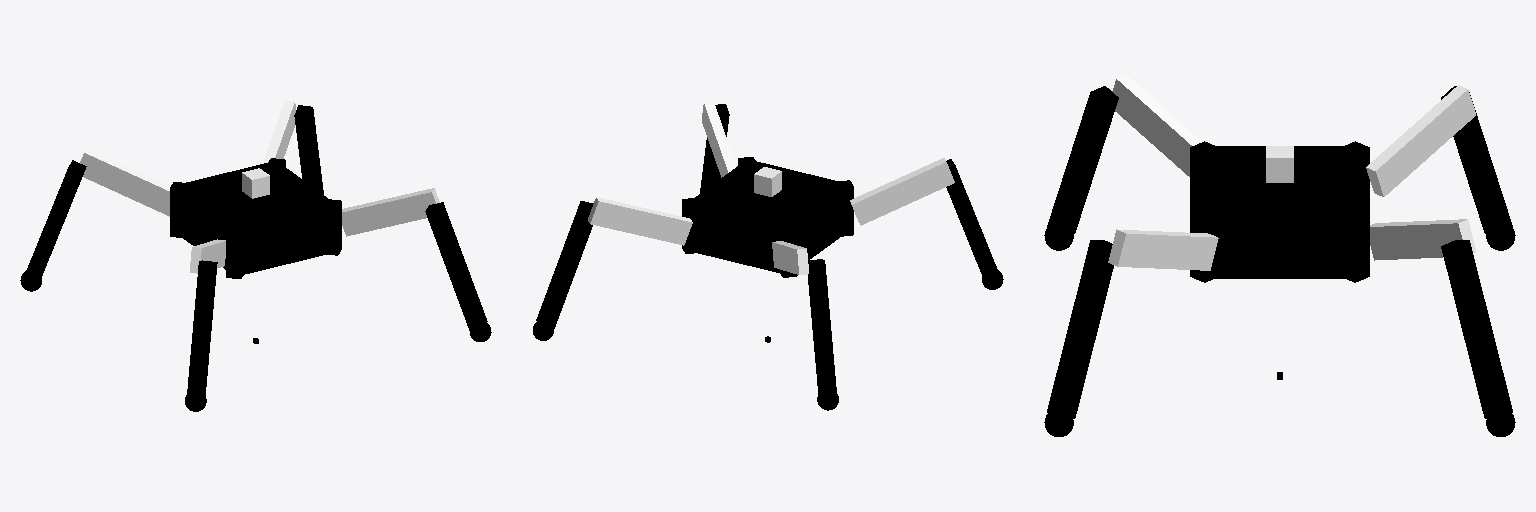
--- Facts derived from the render (not from the file) ---
The picture shows the robot from 3 angles, left to right: view 1: azimuth 30°, elevation 25°; view 2: azimuth 150°, elevation 25°; view 3: azimuth 270°, elevation 25°; orthographic projection.
Robot: quadruped — 19 links, 18 joints (12 revolute, 6 fixed); root link dummy_link; default pose: all joints at 0.
Links seen in each view (by area): view 1: base_link, back_right_leg1, front_left_leg2, back_right_leg2, back_left_leg1, front_left_leg1, front_right_leg1, front_right_leg2, back_left_leg3, back_right_leg3, front_left_leg3, back_left_leg2 (+1 smaller); view 2: base_link, back_left_leg2, front_right_leg2, front_right_leg1, front_left_leg1, back_left_leg1, back_right_leg2, front_left_leg2, back_right_leg1, front_right_leg3, back_left_leg3, imu_link; view 3: base_link, front_right_leg1, back_right_leg1, front_left_leg2, back_left_leg1, back_right_leg2, back_left_leg2, front_left_leg1, front_right_leg2, front_right_leg3, back_right_leg3, imu_link (+4 smaller).
Boxes of the visible links, x1,y1,x2,y2 form: base_link: (179, 161, 332, 274); back_right_leg1: (425, 202, 487, 330); front_left_leg2: (80, 149, 170, 216); back_right_leg2: (342, 188, 439, 236); back_left_leg1: (187, 260, 217, 396); front_left_leg1: (24, 160, 86, 281); front_right_leg1: (294, 105, 323, 194); front_right_leg2: (263, 100, 295, 163); back_left_leg3: (226, 223, 244, 278); back_right_leg3: (323, 199, 341, 255); front_left_leg3: (170, 182, 184, 237); back_left_leg2: (190, 239, 225, 273); base_link: (691, 159, 844, 272); back_left_leg2: (850, 158, 954, 225); front_right_leg2: (588, 197, 692, 245); front_right_leg1: (536, 201, 593, 329); front_left_leg1: (808, 259, 836, 395); back_left_leg1: (946, 159, 999, 280); back_right_leg2: (702, 101, 736, 177); front_left_leg2: (772, 241, 808, 274); back_right_leg1: (700, 104, 729, 193); front_right_leg3: (682, 198, 700, 253); back_left_leg3: (839, 180, 853, 236); imu_link: (754, 167, 781, 196); base_link: (1205, 146, 1354, 278); front_right_leg1: (1441, 240, 1512, 418); back_right_leg1: (1047, 240, 1113, 418); front_left_leg2: (1366, 85, 1475, 196); back_left_leg1: (1047, 86, 1118, 239); back_right_leg2: (1108, 229, 1218, 270); back_left_leg2: (1112, 75, 1201, 176); front_left_leg1: (1441, 86, 1512, 239); front_right_leg2: (1370, 219, 1475, 260); front_right_leg3: (1340, 205, 1369, 282); back_right_leg3: (1190, 205, 1219, 282); imu_link: (1266, 146, 1293, 182).
Size in the robot's own frame: 0.7437 by 0.7437 by 0.3955 metres.
Geometry: primitives only (box / cylinder / sphere), no mesh files.

robot.urdf — quadruped:
<?xml version="1.0" ?>
<!-- =================================================================================== -->
<!-- |    This document was autogenerated by xacro from [local-path]/Desktop/CNS/DDP/src/simulations/ws/src/quadruped/urdf/quadruped_model.xacro | -->
<!-- |    EDITING THIS FILE BY HAND IS NOT RECOMMENDED                                 | -->
<!-- =================================================================================== -->
<robot name="quadruped">
    <!-- Gazebo plugin for ROS Control -->
    <gazebo>
        <plugin filename="libgazebo_ros_control.so" name="gazebo_ros_control">
            <robotNamespace>/quadruped</robotNamespace>
        </plugin>
    </gazebo>
    <material name="black">
        <color rgba="0.0 0.0 0.0 1.0" />
    </material>
    <material name="blue">
        <color rgba="0.0 0.0 0.8 1.0" />
    </material>
    <material name="green">
        <color rgba="0.0 0.8 0.0 1.0" />
    </material>
    <material name="grey">
        <color rgba="0.2 0.2 0.2 1.0" />
    </material>
    <material name="orange">
        <color rgba="1.0 0.4235294117647059 0.0392156862745098 1.0" />
    </material>
    <material name="brown">
        <color rgba="0.8705882352941177 0.8117647058823529 0.7647058823529411 1.0" />
    </material>
    <material name="red">
        <color rgba="0.8 0.0 0.0 1.0" />
    </material>
    <material name="white">
        <color rgba="1.0 1.0 1.0 1.0" />
    </material>
    <!-- Quadruped -->
    <link name="dummy_link">
        <visual>
            <geometry>
                <box size="0.01 0.01 0.01" />
            </geometry>
            <material name="black" />
        </visual>
        
<inertial>
            <mass value="0.01" />
            <inertia ixx="0.00001" ixy="0.0" ixz="0.0" iyy="0.00001" iyz="0.0" izz="0.00001" />
        </inertial>

        <gazebo reference="dummy_link" />
    </link>
    <link name="base_link">
        <visual>
            <geometry>
                <box size="0.2376 0.2376 0.12100000000000001" />
            </geometry>
            <material name="black" />
        </visual>
        <collision>
            <geometry>
                <box size="0.2376 0.2376 0.12100000000000001" />
            </geometry>
        </collision>
        
<inertial>
            <mass value="4.259200000000002" />
            <inertia ixx="0.04007464243200002" ixy="0.0" ixz="0.0" iyy="0.04007464243200002" iyz="0.0" izz="0.04007464243200002" />
        </inertial>

    </link>
    <joint name="dummy_base_joint" type="fixed">
        <parent link="dummy_link" />
        <child link="base_link" />
        <origin rpy="0 0 0" xyz="0 0 0.28600000000000003" />
    </joint>
    <gazebo reference="base_link">
        <mu1>100000.0</mu1>
        <mu2>100000.0</mu2>
        <material>Gazebo/Black</material>
    </gazebo>
    <gazebo reference="dummy_base_joint">
        <provideFeedback>true</provideFeedback>
        <disableFixedJointLumping>true</disableFixedJointLumping>
    </gazebo>
    <link name="imu_link">
        <visual>
            <geometry>
                <box size="0.044000000000000004 0.044000000000000004 0.044000000000000004" />
            </geometry>
            <material name="white" />
        </visual>
        <collision>
            <geometry>
                <box size="0.044000000000000004 0.044000000000000004 0.044000000000000004" />
            </geometry>
        </collision>
        
<inertial>
            <mass value="0.5324000000000002" />
            <inertia ixx="0.00017178773333333344" ixy="0.0" ixz="0.0" iyy="0.00017178773333333344" iyz="0.0" izz="0.00017178773333333344" />
        </inertial>

    </link>
    <joint name="base_imu_joint" type="fixed">
        <parent link="base_link" />
        <child link="imu_link" />
        <origin rpy="0 0 0" xyz="0 0 0.0825" />
        <dynamics damping="10" friction="0.5" />
    </joint>
    <gazebo reference="imu_link">
        <material>Gazebo/White</material>
        <gravity>true</gravity>
        <sensor name="imu_sensor" type="imu">
            <always_on>true</always_on>
            <update_rate>100</update_rate>
            <visualize>true</visualize>
            <topic>__default_topic__</topic>
            <plugin filename="libgazebo_ros_imu_sensor.so" name="imu_plugin">
                <robotNamespace>/quadruped</robotNamespace>
                <topicName>imu</topicName>
                <bodyName>imu_link</bodyName>
                <updateRateHZ>100.0</updateRateHZ>
                <gaussianNoise>0.0</gaussianNoise>
                <xyzOffset>0 0 0</xyzOffset>
                <rpyOffset>0 0 0</rpyOffset>
                <frameName>imu_link</frameName>
            </plugin>
            <pose>0 0 0 0 0 0</pose>
        </sensor>
    </gazebo>
    <gazebo reference="base_imu_joint">
        <provideFeedback>true</provideFeedback>
        <disableFixedJointLumping>true</disableFixedJointLumping>
    </gazebo>
    <link name="front_right_leg3">
        <visual>
            <origin rpy="0 0 0" xyz="0 0 0" />
            <geometry>
                <box size="0.033 0.033 0.1144" />
            </geometry>
            <material name="black" />
        </visual>
        <collision>
            <origin rpy="0 0 0" xyz="0 0 0" />
            <geometry>
                <box size="0.033 0.033 0.1144" />
            </geometry>
        </collision>
        
<inertial>
            <mass value="1.0648000000000004" />
            <inertia ixx="0.0001932612000000001" ixy="0.0" ixz="0.0" iyy="0.0001932612000000001" iyz="0.0" izz="0.0001932612000000001" />
        </inertial>

    </link>
    <joint name="front_right_leg3_joint" type="revolute">
        <axis xyz="0 0 1" />
        <parent link="base_link" />
        <child link="front_right_leg3" />
        <origin rpy="0 0 0.7853981633974483" xyz="0.1188 0.1188 0" />
        <limit effort="100.0" lower="-0.3490658503988659" upper="0.3490658503988659" velocity="10.0" />
        <dynamics damping="10" friction="0.5" />
    </joint>
    <gazebo reference="front_right_leg3">
        <mu1>100000.0</mu1>
        <mu2>100000.0</mu2>
        <material>Gazebo/White</material>
    </gazebo>
    <link name="front_right_leg2">
        <visual>
            <origin rpy="0 2.792526803190927 0" xyz="0.10336618828644993 0.011000000000000001 0.03762221576582357" />
            <geometry>
                <box size="0.22000000000000003 0.022000000000000002 0.05500000000000001" />
            </geometry>
            <material name="white" />
        </visual>
        <collision>
            <origin rpy="0 2.792526803190927 0" xyz="0.10336618828644993 0.011000000000000001 0.03762221576582357" />
            <geometry>
                <box size="0.22000000000000003 0.022000000000000002 0.05500000000000001" />
            </geometry>
        </collision>
        
<inertial>
            <mass value="0.5324000000000002" />
            <inertia ixx="0.0021688201333333345" ixy="0.0" ixz="0.0" iyy="0.0021688201333333345" iyz="0.0" izz="0.0021688201333333345" />
        </inertial>

    </link>
    <joint name="front_right_leg2_joint" type="revolute">
        <axis rpy="0 0 0" xyz="0 1 0" />
        <parent link="front_right_leg3" />
        <child link="front_right_leg2" />
        <origin xyz="0.0165 0.0165 0" />
        <limit effort="100.0" lower="-0.3490658503988659" upper="0.3490658503988659" velocity="10.0" />
        <dynamics damping="10" friction="0.5" />
    </joint>
    <gazebo reference="front_right_leg2">
        <mu1>100000.0</mu1>
        <mu2>100000.0</mu2>
        <material>Gazebo/Black</material>
    </gazebo>
    <link name="front_right_leg1">
        <visual>
            <origin rpy="0 0 0" xyz="0 -0.0165 -0.14300000000000002" />
            <geometry>
                <box size="0.033 0.033 0.28600000000000003" />
            </geometry>
            <material name="black" />
        </visual>
        <collision>
            <origin rpy="0 0 0" xyz="0 -0.0165 -0.14300000000000002" />
            <geometry>
                <box size="0.033 0.033 0.28600000000000003" />
            </geometry>
        </collision>
        
<inertial>
            <mass value="8.518400000000003" />
            <inertia ixx="0.05883729866666671" ixy="0.0" ixz="0.0" iyy="0.05883729866666671" iyz="0.0" izz="0.05883729866666671" />
        </inertial>

    </link>
    <joint name="front_right_leg1_joint" type="revolute">
        <axis xyz="0 1 0" />
        <parent link="front_right_leg2" />
        <child link="front_right_leg1" />
        <origin rpy="0 -0.34906585039886595 0" xyz="0.20673237657289986 0 0.07524443153164714" />
        <limit effort="100.0" lower="-0.3490658503988659" upper="0.3490658503988659" velocity="10.0" />
        <dynamics damping="10" friction="0.5" />
    </joint>
    <gazebo reference="front_right_leg1">
        <mu1>100000.0</mu1>
        <mu2>100000.0</mu2>
        <material>Gazebo/White</material>
    </gazebo>
    <link name="front_right_leg_tip">
        <visual>
            <origin rpy="0 0 0" xyz="0 0 0" />
            <geometry>
                <sphere radius="0.023265" />
            </geometry>
            <material name="black" />
        </visual>
        <collision name="front_right_leg_tip">
            <origin rpy="0 0 0" xyz="0 0 0" />
            <geometry>
                <sphere radius="0.0165" />
            </geometry>
        </collision>
        
<inertial>
            <mass value="0.21296000000000007" />
            <inertia ixx="0.1" ixy="0.0" ixz="0.0" iyy="0.1" iyz="0.0" izz="0.1" />
        </inertial>

    </link>
    <joint name="front_right_leg_tip_joint" type="fixed">
        <parent link="front_right_leg1" />
        <child link="front_right_leg_tip" />
        <origin rpy="0 0 0" xyz="0 -0.0165 -0.2976325" />
        <dynamics damping="10" friction="0.5" />
    </joint>
    <gazebo reference="front_right_leg_tip">
        <minDepth>0.0002</minDepth>
        <collision name="front_right_leg_tip_collision">
            <geometry>
                <sphere>
                    <radius>0.0165</radius>
                </sphere>
            </geometry>
            <surface>
                <friction>
                    <ode>
                        <mu>100000.0</mu>
                        <mu2>100000.0</mu2>
                    </ode>
                    <torsional>
                        <coefficient>1000000</coefficient>
                        <use_patch_radius>true</use_patch_radius>
                        <surface_radius>0.0165</surface_radius>
                        <patch_radius>0.0165</patch_radius>
                    </torsional>
                </friction>
            </surface>
        </collision>
        <sensor name="front_right_leg_tip_contact_sensor" type="contact">
            <plugin filename="libgazebo_ros_bumper.so" name="gazebo_ros_bumper_controller">
                <robotNamespace>/quadruped</robotNamespace>
                <bumperTopicName>front_right_leg_tip_contact_sensor</bumperTopicName>
                <frameName>front_right_leg_tip</frameName>
                <alwayson>true</alwayson>
                <updaterate>100</updaterate>
            </plugin>
            <always_on>true</always_on>
            <update_rate>100</update_rate>
            <contact>
                <collision>front_right_leg_tip_collision</collision>
            </contact>
        </sensor>
        <material>Gazebo/Black</material>
    </gazebo>
    <gazebo reference="front_right_leg_tip_joint">
        <provideFeedback>true</provideFeedback>
        <disableFixedJointLumping>true</disableFixedJointLumping>
    </gazebo>
    <link name="front_left_leg3">
        <visual>
            <origin rpy="0 0 0" xyz="0 0 0" />
            <geometry>
                <box size="0.033 0.033 0.1144" />
            </geometry>
            <material name="black" />
        </visual>
        <collision>
            <origin rpy="0 0 0" xyz="0 0 0" />
            <geometry>
                <box size="0.033 0.033 0.1144" />
            </geometry>
        </collision>
        
<inertial>
            <mass value="1.0648000000000004" />
            <inertia ixx="0.0001932612000000001" ixy="0.0" ixz="0.0" iyy="0.0001932612000000001" iyz="0.0" izz="0.0001932612000000001" />
        </inertial>

    </link>
    <joint name="front_left_leg3_joint" type="revolute">
        <axis xyz="0 0 1" />
        <parent link="base_link" />
        <child link="front_left_leg3" />
        <origin rpy="0 0 2.356194490192345" xyz="-0.1188 0.1188 0" />
        <limit effort="100.0" lower="-0.3490658503988659" upper="0.3490658503988659" velocity="10.0" />
        <dynamics damping="10" friction="0.5" />
    </joint>
    <gazebo reference="front_left_leg3">
        <mu1>100000.0</mu1>
        <mu2>100000.0</mu2>
        <material>Gazebo/White</material>
    </gazebo>
    <link name="front_left_leg2">
        <visual>
            <origin rpy="0 2.792526803190927 0" xyz="0.10336618828644993 -0.011000000000000001 0.03762221576582357" />
            <geometry>
                <box size="0.22000000000000003 0.022000000000000002 0.05500000000000001" />
            </geometry>
            <material name="white" />
        </visual>
        <collision>
            <origin rpy="0 2.792526803190927 0" xyz="0.10336618828644993 -0.011000000000000001 0.03762221576582357" />
            <geometry>
                <box size="0.22000000000000003 0.022000000000000002 0.05500000000000001" />
            </geometry>
        </collision>
        
<inertial>
            <mass value="0.5324000000000002" />
            <inertia ixx="0.0021688201333333345" ixy="0.0" ixz="0.0" iyy="0.0021688201333333345" iyz="0.0" izz="0.0021688201333333345" />
        </inertial>

    </link>
    <joint name="front_left_leg2_joint" type="revolute">
        <axis rpy="0 0 0" xyz="0 1 0" />
        <parent link="front_left_leg3" />
        <child link="front_left_leg2" />
        <origin xyz="0.0165 -0.0165 0" />
        <limit effort="100.0" lower="-0.3490658503988659" upper="0.3490658503988659" velocity="10.0" />
        <dynamics damping="10" friction="0.5" />
    </joint>
    <gazebo reference="front_left_leg2">
        <mu1>100000.0</mu1>
        <mu2>100000.0</mu2>
        <material>Gazebo/Black</material>
    </gazebo>
    <link name="front_left_leg1">
        <visual>
            <origin rpy="0 0 0" xyz="0 0.0165 -0.14300000000000002" />
            <geometry>
                <box size="0.033 0.033 0.28600000000000003" />
            </geometry>
            <material name="black" />
        </visual>
        <collision>
            <origin rpy="0 0 0" xyz="0 0.0165 -0.14300000000000002" />
            <geometry>
                <box size="0.033 0.033 0.28600000000000003" />
            </geometry>
        </collision>
        
<inertial>
            <mass value="8.518400000000003" />
            <inertia ixx="0.05883729866666671" ixy="0.0" ixz="0.0" iyy="0.05883729866666671" iyz="0.0" izz="0.05883729866666671" />
        </inertial>

    </link>
    <joint name="front_left_leg1_joint" type="revolute">
        <axis xyz="0 1 0" />
        <parent link="front_left_leg2" />
        <child link="front_left_leg1" />
        <origin rpy="0 -0.34906585039886595 0" xyz="0.20673237657289986 0 0.07524443153164714" />
        <limit effort="100.0" lower="-0.3490658503988659" upper="0.3490658503988659" velocity="10.0" />
        <dynamics damping="10" friction="0.5" />
    </joint>
    <gazebo reference="front_left_leg1">
        <mu1>100000.0</mu1>
        <mu2>100000.0</mu2>
        <material>Gazebo/White</material>
    </gazebo>
    <link name="front_left_leg_tip">
        <visual>
            <origin rpy="0 0 0" xyz="0 0 0" />
            <geometry>
                <sphere radius="0.023265" />
            </geometry>
            <material name="black" />
        </visual>
        <collision name="front_left_leg_tip">
            <origin rpy="0 0 0" xyz="0 0 0" />
            <geometry>
                <sphere radius="0.0165" />
            </geometry>
        </collision>
        
<inertial>
            <mass value="0.21296000000000007" />
            <inertia ixx="0.1" ixy="0.0" ixz="0.0" iyy="0.1" iyz="0.0" izz="0.1" />
        </inertial>

    </link>
    <joint name="front_left_leg_tip_joint" type="fixed">
        <parent link="front_left_leg1" />
        <child link="front_left_leg_tip" />
        <origin rpy="0 0 0" xyz="0 0.0165 -0.2976325" />
        <dynamics damping="10" friction="0.5" />
    </joint>
    <gazebo reference="front_left_leg_tip">
        <minDepth>0.0002</minDepth>
        <collision name="front_left_leg_tip_collision">
            <geometry>
                <sphere>
                    <radius>0.0165</radius>
                </sphere>
            </geometry>
            <surface>
                <friction>
                    <ode>
                        <mu>100000.0</mu>
                        <mu2>100000.0</mu2>
                    </ode>
                    <torsional>
                        <coefficient>1000000</coefficient>
                        <use_patch_radius>true</use_patch_radius>
                        <surface_radius>0.0165</surface_radius>
                        <patch_radius>0.0165</patch_radius>
                    </torsional>
                </friction>
            </surface>
        </collision>
        <sensor name="front_left_leg_tip_contact_sensor" type="contact">
            <plugin filename="libgazebo_ros_bumper.so" name="gazebo_ros_bumper_controller">
                <robotNamespace>/quadruped</robotNamespace>
                <bumperTopicName>front_left_leg_tip_contact_sensor</bumperTopicName>
                <frameName>front_left_leg_tip</frameName>
                <alwayson>true</alwayson>
                <updaterate>100</updaterate>
            </plugin>
            <always_on>true</always_on>
            <update_rate>100</update_rate>
            <contact>
                <collision>front_left_leg_tip_collision</collision>
            </contact>
        </sensor>
        <material>Gazebo/Black</material>
    </gazebo>
    <gazebo reference="front_left_leg_tip_joint">
        <provideFeedback>true</provideFeedback>
        <disableFixedJointLumping>true</disableFixedJointLumping>
    </gazebo>
    <link name="back_right_leg3">
        <visual>
            <origin rpy="0 0 0" xyz="0 0 0" />
            <geometry>
                <box size="0.033 0.033 0.1144" />
            </geometry>
            <material name="black" />
        </visual>
        <collision>
            <origin rpy="0 0 0" xyz="0 0 0" />
            <geometry>
                <box size="0.033 0.033 0.1144" />
            </geometry>
        </collision>
        
<inertial>
            <mass value="1.0648000000000004" />
            <inertia ixx="0.0001932612000000001" ixy="0.0" ixz="0.0" iyy="0.0001932612000000001" iyz="0.0" izz="0.0001932612000000001" />
        </inertial>

    </link>
    <joint name="back_right_leg3_joint" type="revolute">
        <axis xyz="0 0 1" />
        <parent link="base_link" />
        <child link="back_right_leg3" />
        <origin rpy="0 0 -0.7853981633974483" xyz="0.1188 -0.1188 0" />
        <limit effort="100.0" lower="-0.3490658503988659" upper="0.3490658503988659" velocity="10.0" />
        <dynamics damping="10" friction="0.5" />
    </joint>
    <gazebo reference="back_right_leg3">
        <mu1>100000.0</mu1>
        <mu2>100000.0</mu2>
        <material>Gazebo/White</material>
    </gazebo>
    <link name="back_right_leg2">
        <visual>
            <origin rpy="0 2.792526803190927 0" xyz="0.10336618828644993 0.011000000000000001 0.03762221576582357" />
            <geometry>
                <box size="0.22000000000000003 0.022000000000000002 0.05500000000000001" />
            </geometry>
            <material name="white" />
        </visual>
        <collision>
            <origin rpy="0 2.792526803190927 0" xyz="0.10336618828644993 0.011000000000000001 0.03762221576582357" />
            <geometry>
                <box size="0.22000000000000003 0.022000000000000002 0.05500000000000001" />
            </geometry>
        </collision>
        
<inertial>
            <mass value="0.5324000000000002" />
            <inertia ixx="0.0021688201333333345" ixy="0.0" ixz="0.0" iyy="0.0021688201333333345" iyz="0.0" izz="0.0021688201333333345" />
        </inertial>

    </link>
    <joint name="back_right_leg2_joint" type="revolute">
        <axis rpy="0 0 0" xyz="0 1 0" />
        <parent link="back_right_leg3" />
        <child link="back_right_leg2" />
        <origin xyz="0.0165 0.0165 0" />
        <limit effort="100.0" lower="-0.3490658503988659" upper="0.3490658503988659" velocity="10.0" />
        <dynamics damping="10" friction="0.5" />
    </joint>
    <gazebo reference="back_right_leg2">
        <mu1>100000.0</mu1>
        <mu2>100000.0</mu2>
        <material>Gazebo/Black</material>
    </gazebo>
    <link name="back_right_leg1">
        <visual>
            <origin rpy="0 0 0" xyz="0 -0.0165 -0.14300000000000002" />
            <geometry>
                <box size="0.033 0.033 0.28600000000000003" />
            </geometry>
            <material name="black" />
        </visual>
        <collision>
            <origin rpy="0 0 0" xyz="0 -0.0165 -0.14300000000000002" />
            <geometry>
                <box size="0.033 0.033 0.28600000000000003" />
            </geometry>
        </collision>
        
<inertial>
            <mass value="8.518400000000003" />
            <inertia ixx="0.05883729866666671" ixy="0.0" ixz="0.0" iyy="0.05883729866666671" iyz="0.0" izz="0.05883729866666671" />
        </inertial>

    </link>
    <joint name="back_right_leg1_joint" type="revolute">
        <axis xyz="0 1 0" />
        <parent link="back_right_leg2" />
        <child link="back_right_leg1" />
        <origin rpy="0 -0.34906585039886595 0" xyz="0.20673237657289986 0 0.07524443153164714" />
        <limit effort="100.0" lower="-0.3490658503988659" upper="0.3490658503988659" velocity="10.0" />
        <dynamics damping="10" friction="0.5" />
    </joint>
    <gazebo reference="back_right_leg1">
        <mu1>100000.0</mu1>
        <mu2>100000.0</mu2>
        <material>Gazebo/White</material>
    </gazebo>
    <link name="back_right_leg_tip">
        <visual>
            <origin rpy="0 0 0" xyz="0 0 0" />
            <geometry>
                <sphere radius="0.023265" />
            </geometry>
            <material name="black" />
        </visual>
        <collision name="back_right_leg_tip">
            <origin rpy="0 0 0" xyz="0 0 0" />
            <geometry>
                <sphere radius="0.0165" />
            </geometry>
        </collision>
        
<inertial>
            <mass value="0.21296000000000007" />
            <inertia ixx="0.1" ixy="0.0" ixz="0.0" iyy="0.1" iyz="0.0" izz="0.1" />
        </inertial>

    </link>
    <joint name="back_right_leg_tip_joint" type="fixed">
        <parent link="back_right_leg1" />
        <child link="back_right_leg_tip" />
        <origin rpy="0 0 0" xyz="0 -0.0165 -0.2976325" />
        <dynamics damping="10" friction="0.5" />
    </joint>
    <gazebo reference="back_right_leg_tip">
        <minDepth>0.0002</minDepth>
        <collision name="back_right_leg_tip_collision">
            <geometry>
                <sphere>
                    <radius>0.0165</radius>
                </sphere>
            </geometry>
            <surface>
                <friction>
                    <ode>
                        <mu>100000.0</mu>
                        <mu2>100000.0</mu2>
                    </ode>
                    <torsional>
                        <coefficient>1000000</coefficient>
                        <use_patch_radius>true</use_patch_radius>
                        <surface_radius>0.0165</surface_radius>
                        <patch_radius>0.0165</patch_radius>
                    </torsional>
                </friction>
            </surface>
        </collision>
        <sensor name="back_right_leg_tip_contact_sensor" type="contact">
            <plugin filename="libgazebo_ros_bumper.so" name="gazebo_ros_bumper_controller">
                <robotNamespace>/quadruped</robotNamespace>
                <bumperTopicName>back_right_leg_tip_contact_sensor</bumperTopicName>
                <frameName>back_right_leg_tip</frameName>
                <alwayson>true</alwayson>
                <updaterate>100</updaterate>
            </plugin>
            <always_on>true</always_on>
            <update_rate>100</update_rate>
            <contact>
                <collision>back_right_leg_tip_collision</collision>
            </contact>
        </sensor>
        <material>Gazebo/Black</material>
    </gazebo>
    <gazebo reference="back_right_leg_tip_joint">
        <provideFeedback>true</provideFeedback>
        <disableFixedJointLumping>true</disableFixedJointLumping>
    </gazebo>
    <link name="back_left_leg3">
        <visual>
            <origin rpy="0 0 0" xyz="0 0 0" />
            <geometry>
                <box size="0.033 0.033 0.1144" />
            </geometry>
            <material name="black" />
        </visual>
        <collision>
            <origin rpy="0 0 0" xyz="0 0 0" />
            <geometry>
                <box size="0.033 0.033 0.1144" />
            </geometry>
        </collision>
        
<inertial>
            <mass value="1.0648000000000004" />
            <inertia ixx="0.0001932612000000001" ixy="0.0" ixz="0.0" iyy="0.0001932612000000001" iyz="0.0" izz="0.0001932612000000001" />
        </inertial>

    </link>
    <joint name="back_left_leg3_joint" type="revolute">
        <axis xyz="0 0 1" />
        <parent link="base_link" />
        <child link="back_left_leg3" />
        <origin rpy="0 0 -2.356194490192345" xyz="-0.1188 -0.1188 0" />
        <limit effort="100.0" lower="-0.3490658503988659" upper="0.3490658503988659" velocity="10.0" />
        <dynamics damping="10" friction="0.5" />
    </joint>
    <gazebo reference="back_left_leg3">
        <mu1>100000.0</mu1>
        <mu2>100000.0</mu2>
        <material>Gazebo/White</material>
    </gazebo>
    <link name="back_left_leg2">
        <visual>
            <origin rpy="0 2.792526803190927 0" xyz="0.10336618828644993 -0.011000000000000001 0.03762221576582357" />
            <geometry>
                <box size="0.22000000000000003 0.022000000000000002 0.05500000000000001" />
            </geometry>
            <material name="white" />
        </visual>
        <collision>
            <origin rpy="0 2.792526803190927 0" xyz="0.10336618828644993 -0.011000000000000001 0.03762221576582357" />
            <geometry>
                <box size="0.22000000000000003 0.022000000000000002 0.05500000000000001" />
            </geometry>
        </collision>
        
<inertial>
            <mass value="0.5324000000000002" />
            <inertia ixx="0.0021688201333333345" ixy="0.0" ixz="0.0" iyy="0.0021688201333333345" iyz="0.0" izz="0.0021688201333333345" />
        </inertial>

    </link>
    <joint name="back_left_leg2_joint" type="revolute">
        <axis rpy="0 0 0" xyz="0 1 0" />
        <parent link="back_left_leg3" />
        <child link="back_left_leg2" />
        <origin xyz="0.0165 -0.0165 0" />
        <limit effort="100.0" lower="-0.3490658503988659" upper="0.3490658503988659" velocity="10.0" />
        <dynamics damping="10" friction="0.5" />
    </joint>
    <gazebo reference="back_left_leg2">
        <mu1>100000.0</mu1>
        <mu2>100000.0</mu2>
        <material>Gazebo/Black</material>
    </gazebo>
    <link name="back_left_leg1">
        <visual>
            <origin rpy="0 0 0" xyz="0 0.0165 -0.14300000000000002" />
            <geometry>
                <box size="0.033 0.033 0.28600000000000003" />
            </geometry>
            <material name="black" />
        </visual>
        <collision>
            <origin rpy="0 0 0" xyz="0 0.0165 -0.14300000000000002" />
            <geometry>
                <box size="0.033 0.033 0.28600000000000003" />
            </geometry>
        </collision>
        
<inertial>
            <mass value="8.518400000000003" />
            <inertia ixx="0.05883729866666671" ixy="0.0" ixz="0.0" iyy="0.05883729866666671" iyz="0.0" izz="0.05883729866666671" />
        </inertial>

    </link>
    <joint name="back_left_leg1_joint" type="revolute">
        <axis xyz="0 1 0" />
        <parent link="back_left_leg2" />
        <child link="back_left_leg1" />
        <origin rpy="0 -0.34906585039886595 0" xyz="0.20673237657289986 0 0.07524443153164714" />
        <limit effort="100.0" lower="-0.3490658503988659" upper="0.3490658503988659" velocity="10.0" />
        <dynamics damping="10" friction="0.5" />
    </joint>
    <gazebo reference="back_left_leg1">
        <mu1>100000.0</mu1>
        <mu2>100000.0</mu2>
        <material>Gazebo/White</material>
    </gazebo>
    <link name="back_left_leg_tip">
        <visual>
            <origin rpy="0 0 0" xyz="0 0 0" />
            <geometry>
                <sphere radius="0.023265" />
            </geometry>
            <material name="black" />
        </visual>
        <collision name="back_left_leg_tip">
            <origin rpy="0 0 0" xyz="0 0 0" />
            <geometry>
                <sphere radius="0.0165" />
            </geometry>
        </collision>
        
<inertial>
            <mass value="0.21296000000000007" />
            <inertia ixx="0.1" ixy="0.0" ixz="0.0" iyy="0.1" iyz="0.0" izz="0.1" />
        </inertial>

    </link>
    <joint name="back_left_leg_tip_joint" type="fixed">
        <parent link="back_left_leg1" />
        <child link="back_left_leg_tip" />
        <origin rpy="0 0 0" xyz="0 0.0165 -0.2976325" />
        <dynamics damping="10" friction="0.5" />
    </joint>
    <gazebo reference="back_left_leg_tip">
        <minDepth>0.0002</minDepth>
        <collision name="back_left_leg_tip_collision">
            <geometry>
                <sphere>
                    <radius>0.0165</radius>
                </sphere>
            </geometry>
            <surface>
                <friction>
                    <ode>
                        <mu>100000.0</mu>
                        <mu2>100000.0</mu2>
                    </ode>
                    <torsional>
                        <coefficient>1000000</coefficient>
                        <use_patch_radius>true</use_patch_radius>
                        <surface_radius>0.0165</surface_radius>
                        <patch_radius>0.0165</patch_radius>
                    </torsional>
                </friction>
            </surface>
        </collision>
        <sensor name="back_left_leg_tip_contact_sensor" type="contact">
            <plugin filename="libgazebo_ros_bumper.so" name="gazebo_ros_bumper_controller">
                <robotNamespace>/quadruped</robotNamespace>
                <bumperTopicName>back_left_leg_tip_contact_sensor</bumperTopicName>
                <frameName>back_left_leg_tip</frameName>
                <alwayson>true</alwayson>
                <updaterate>100</updaterate>
            </plugin>
            <always_on>true</always_on>
            <update_rate>100</update_rate>
            <contact>
                <collision>back_left_leg_tip_collision</collision>
            </contact>
        </sensor>
        <material>Gazebo/Black</material>
    </gazebo>
    <gazebo reference="back_left_leg_tip_joint">
        <provideFeedback>true</provideFeedback>
        <disableFixedJointLumping>true</disableFixedJointLumping>
    </gazebo>
    <!-- gazebo ros joint state pub plugin -->
    <gazebo>
        <plugin filename="libgazebo_ros_joint_state_publisher.so" name="joint_state_publisher">
            <robotNamespace>/quadruped</robotNamespace>
            <jointName>front_right_leg1_joint, front_right_leg2_joint, front_right_leg3_joint, front_left_leg1_joint, front_left_leg2_joint, front_left_leg3_joint, back_right_leg1_joint, back_right_leg2_joint, back_right_leg3_joint, back_left_leg1_joint, back_left_leg2_joint, back_left_leg3_joint</jointName>
            <updateRate>60.0</updateRate>
            <alwaysOn>true</alwaysOn>
        </plugin>
    </gazebo>
    
<transmission name="tran1">
        <joint name="front_right_leg1_joint">
            <hardwareInterface>hardware_interface/PositionJointInterface</hardwareInterface>
        </joint>
        <type>transmission_interface/SimpleTransmission</type>
        <actuator name="servo1">
            <hardwareInterface>hardware_interface/PositionJointInterface</hardwareInterface>
            <mechanicalReduction>1</mechanicalReduction>
        </actuator>
    </transmission>
    <transmission name="tran2">
        <joint name="front_right_leg2_joint">
            <hardwareInterface>hardware_interface/PositionJointInterface</hardwareInterface>
        </joint>
        <type>transmission_interface/SimpleTransmission</type>
        <actuator name="servo2">
            <hardwareInterface>hardware_interface/PositionJointInterface</hardwareInterface>
            <mechanicalReduction>1</mechanicalReduction>
        </actuator>
    </transmission>
    <transmission name="tran3">
        <joint name="front_right_leg3_joint">
            <hardwareInterface>hardware_interface/PositionJointInterface</hardwareInterface>
        </joint>
        <type>transmission_interface/SimpleTransmission</type>
        <actuator name="servo3">
            <hardwareInterface>hardware_interface/PositionJointInterface</hardwareInterface>
            <mechanicalReduction>1</mechanicalReduction>
        </actuator>
    </transmission>
    <transmission name="tran4">
        <joint name="front_left_leg1_joint">
            <hardwareInterface>hardware_interface/PositionJointInterface</hardwareInterface>
        </joint>
        <type>transmission_interface/SimpleTransmission</type>
        <actuator name="servo4">
            <hardwareInterface>hardware_interface/PositionJointInterface</hardwareInterface>
            <mechanicalReduction>1</mechanicalReduction>
        </actuator>
    </transmission>
    <transmission name="tran5">
        <joint name="front_left_leg2_joint">
            <hardwareInterface>hardware_interface/PositionJointInterface</hardwareInterface>
        </joint>
        <type>transmission_interface/SimpleTransmission</type>
        <actuator name="servo5">
            <hardwareInterface>hardware_interface/PositionJointInterface</hardwareInterface>
            <mechanicalReduction>1</mechanicalReduction>
        </actuator>
    </transmission>
    <transmission name="tran6">
        <joint name="front_left_leg3_joint">
            <hardwareInterface>hardware_interface/PositionJointInterface</hardwareInterface>
        </joint>
        <type>transmission_interface/SimpleTransmission</type>
        <actuator name="servo6">
            <hardwareInterface>hardware_interface/PositionJointInterface</hardwareInterface>
            <mechanicalReduction>1</mechanicalReduction>
        </actuator>
    </transmission>
    <transmission name="tran7">
        <joint name="back_right_leg1_joint">
            <hardwareInterface>hardware_interface/PositionJointInterface</hardwareInterface>
        </joint>
        <type>transmission_interface/SimpleTransmission</type>
        <actuator name="servo7">
            <hardwareInterface>hardware_interface/PositionJointInterface</hardwareInterface>
            <mechanicalReduction>1</mechanicalReduction>
        </actuator>
    </transmission>
    <transmission name="tran8">
        <joint name="back_right_leg2_joint">
            <hardwareInterface>hardware_interface/PositionJointInterface</hardwareInterface>
        </joint>
        <type>transmission_interface/SimpleTransmission</type>
        <actuator name="servo8">
            <hardwareInterface>hardware_interface/PositionJointInterface</hardwareInterface>
            <mechanicalReduction>1</mechanicalReduction>
        </actuator>
    </transmission>
    <transmission name="tran9">
        <joint name="back_right_leg3_joint">
            <hardwareInterface>hardware_interface/PositionJointInterface</hardwareInterface>
        </joint>
        <type>transmission_interface/SimpleTransmission</type>
        <actuator name="servo9">
            <hardwareInterface>hardware_interface/PositionJointInterface</hardwareInterface>
            <mechanicalReduction>1</mechanicalReduction>
        </actuator>
    </transmission>
    <transmission name="tran10">
        <joint name="back_left_leg1_joint">
            <hardwareInterface>hardware_interface/PositionJointInterface</hardwareInterface>
        </joint>
        <type>transmission_interface/SimpleTransmission</type>
        <actuator name="servo10">
            <hardwareInterface>hardware_interface/PositionJointInterface</hardwareInterface>
            <mechanicalReduction>1</mechanicalReduction>
        </actuator>
    </transmission>
    <transmission name="tran11">
        <joint name="back_left_leg2_joint">
            <hardwareInterface>hardware_interface/PositionJointInterface</hardwareInterface>
        </joint>
        <type>transmission_interface/SimpleTransmission</type>
        <actuator name="servo11">
            <hardwareInterface>hardware_interface/PositionJointInterface</hardwareInterface>
            <mechanicalReduction>1</mechanicalReduction>
        </actuator>
    </transmission>
    <transmission name="tran12">
        <joint name="back_left_leg3_joint">
            <hardwareInterface>hardware_interface/PositionJointInterface</hardwareInterface>
        </joint>
        <type>transmission_interface/SimpleTransmission</type>
        <actuator name="servo12">
            <hardwareInterface>hardware_interface/PositionJointInterface</hardwareInterface>
            <mechanicalReduction>1</mechanicalReduction>
        </actuator>
    </transmission>
    <transmission name="trans_front_right_leg3_joint">
        <type>transmission_interface/SimpleTransmission</type>
        <joint name="front_right_leg3_joint">
            <hardwareInterface>hardware_interface/EffortJointInterface</hardwareInterface>
        </joint>
        <actuator name="front_right_leg3_joint_motor">
            <hardwareInterface>hardware_interface/EffortJointInterface</hardwareInterface>
            <mechanicalReduction>1</mechanicalReduction>
        </actuator>
    </transmission>
    <transmission name="trans_front_right_leg2_joint">
        <type>transmission_interface/SimpleTransmission</type>
        <joint name="front_right_leg2_joint">
            <hardwareInterface>hardware_interface/EffortJointInterface</hardwareInterface>
        </joint>
        <actuator name="front_right_leg2_joint_motor">
            <hardwareInterface>hardware_interface/EffortJointInterface</hardwareInterface>
            <mechanicalReduction>1</mechanicalReduction>
        </actuator>
    </transmission>
    <transmission name="trans_front_right_leg1_joint">
        <type>transmission_interface/SimpleTransmission</type>
        <joint name="front_right_leg1_joint">
            <hardwareInterface>hardware_interface/EffortJointInterface</hardwareInterface>
        </joint>
        <actuator name="front_right_leg1_joint_motor">
            <hardwareInterface>hardware_interface/EffortJointInterface</hardwareInterface>
            <mechanicalReduction>1</mechanicalReduction>
        </actuator>
    </transmission>
    <transmission name="trans_front_left_leg3_joint">
        <type>transmission_interface/SimpleTransmission</type>
        <joint name="front_left_leg3_joint">
            <hardwareInterface>hardware_interface/EffortJointInterface</hardwareInterface>
        </joint>
        <actuator name="front_left_leg3_joint_motor">
            <hardwareInterface>hardware_interface/EffortJointInterface</hardwareInterface>
            <mechanicalReduction>1</mechanicalReduction>
        </actuator>
    </transmission>
    <transmission name="trans_front_left_leg2_joint">
        <type>transmission_interface/SimpleTransmission</type>
        <joint name="front_left_leg2_joint">
            <hardwareInterface>hardware_interface/EffortJointInterface</hardwareInterface>
        </joint>
        <actuator name="front_left_leg2_joint_motor">
            <hardwareInterface>hardware_interface/EffortJointInterface</hardwareInterface>
            <mechanicalReduction>1</mechanicalReduction>
        </actuator>
    </transmission>
    <transmission name="trans_front_left_leg1_joint">
        <type>transmission_interface/SimpleTransmission</type>
        <joint name="front_left_leg1_joint">
            <hardwareInterface>hardware_interface/EffortJointInterface</hardwareInterface>
        </joint>
        <actuator name="front_left_leg1_joint_motor">
            <hardwareInterface>hardware_interface/EffortJointInterface</hardwareInterface>
            <mechanicalReduction>1</mechanicalReduction>
        </actuator>
    </transmission>
    <transmission name="trans_back_right_leg3_joint">
        <type>transmission_interface/SimpleTransmission</type>
        <joint name="back_right_leg3_joint">
            <hardwareInterface>hardware_interface/EffortJointInterface</hardwareInterface>
        </joint>
        <actuator name="back_right_leg3_joint_motor">
            <hardwareInterface>hardware_interface/EffortJointInterface</hardwareInterface>
            <mechanicalReduction>1</mechanicalReduction>
        </actuator>
    </transmission>
    <transmission name="trans_back_right_leg2_joint">
        <type>transmission_interface/SimpleTransmission</type>
        <joint name="back_right_leg2_joint">
            <hardwareInterface>hardware_interface/EffortJointInterface</hardwareInterface>
        </joint>
        <actuator name="back_right_leg2_joint_motor">
            <hardwareInterface>hardware_interface/EffortJointInterface</hardwareInterface>
            <mechanicalReduction>1</mechanicalReduction>
        </actuator>
    </transmission>
    <transmission name="trans_back_right_leg1_joint">
        <type>transmission_interface/SimpleTransmission</type>
        <joint name="back_right_leg1_joint">
            <hardwareInterface>hardware_interface/EffortJointInterface</hardwareInterface>
        </joint>
        <actuator name="back_right_leg1_joint_motor">
            <hardwareInterface>hardware_interface/EffortJointInterface</hardwareInterface>
            <mechanicalReduction>1</mechanicalReduction>
        </actuator>
    </transmission>
    <transmission name="trans_back_left_leg3_joint">
        <type>transmission_interface/SimpleTransmission</type>
        <joint name="back_left_leg3_joint">
            <hardwareInterface>hardware_interface/EffortJointInterface</hardwareInterface>
        </joint>
        <actuator name="back_left_leg3_joint_motor">
            <hardwareInterface>hardware_interface/EffortJointInterface</hardwareInterface>
            <mechanicalReduction>1</mechanicalReduction>
        </actuator>
    </transmission>
    <transmission name="trans_back_left_leg2_joint">
        <type>transmission_interface/SimpleTransmission</type>
        <joint name="back_left_leg2_joint">
            <hardwareInterface>hardware_interface/EffortJointInterface</hardwareInterface>
        </joint>
        <actuator name="back_left_leg2_joint_motor">
            <hardwareInterface>hardware_interface/EffortJointInterface</hardwareInterface>
            <mechanicalReduction>1</mechanicalReduction>
        </actuator>
    </transmission>
    <transmission name="trans_back_left_leg1_joint">
        <type>transmission_interface/SimpleTransmission</type>
        <joint name="back_left_leg1_joint">
            <hardwareInterface>hardware_interface/EffortJointInterface</hardwareInterface>
        </joint>
        <actuator name="back_left_leg1_joint_motor">
            <hardwareInterface>hardware_interface/EffortJointInterface</hardwareInterface>
            <mechanicalReduction>1</mechanicalReduction>
        </actuator>
    </transmission>
    <gazebo>
        <plugin name="gazebo_ros_control" filename="libgazebo_ros_control.so">
            <robotNamespace>/</robotNamespace>
        </plugin>
    </gazebo>
</robot>
